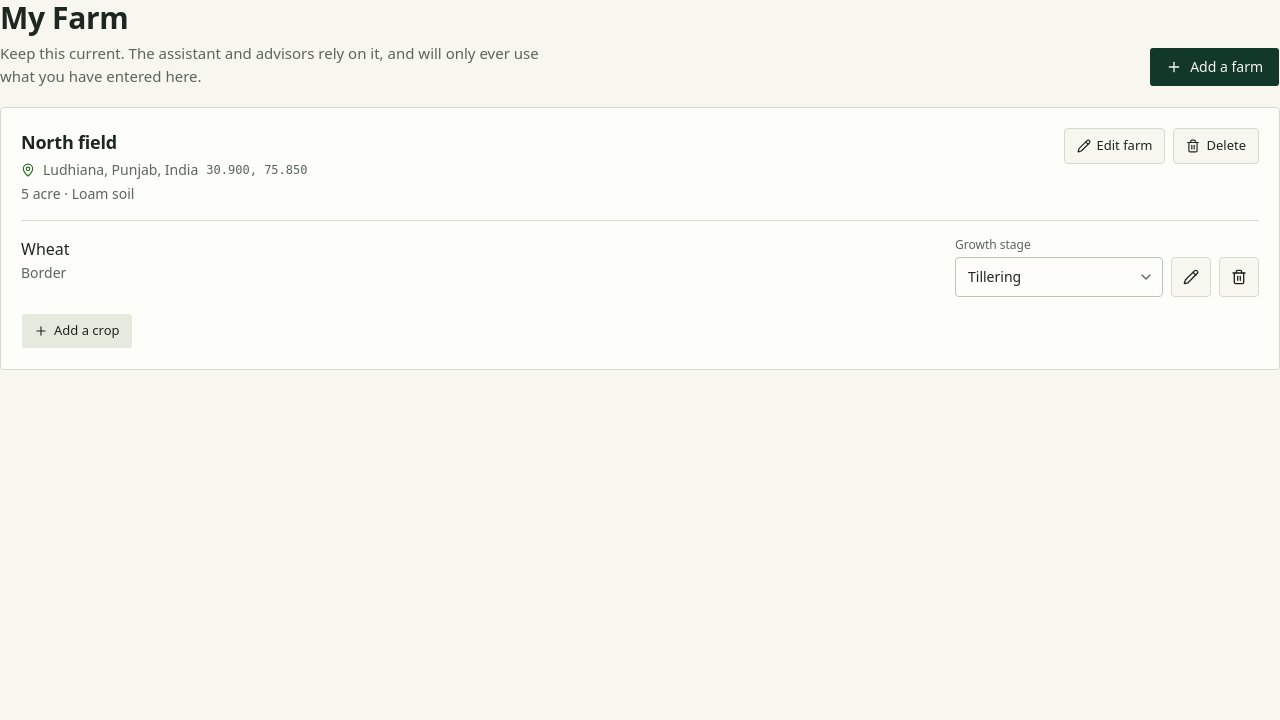
Scenario: FarmPage › asks before deleting a farm, then deletes it
Later steps or results of the test are not shown.
Click the button "Delete" at (1216, 146), box [1174, 128, 1259, 164]
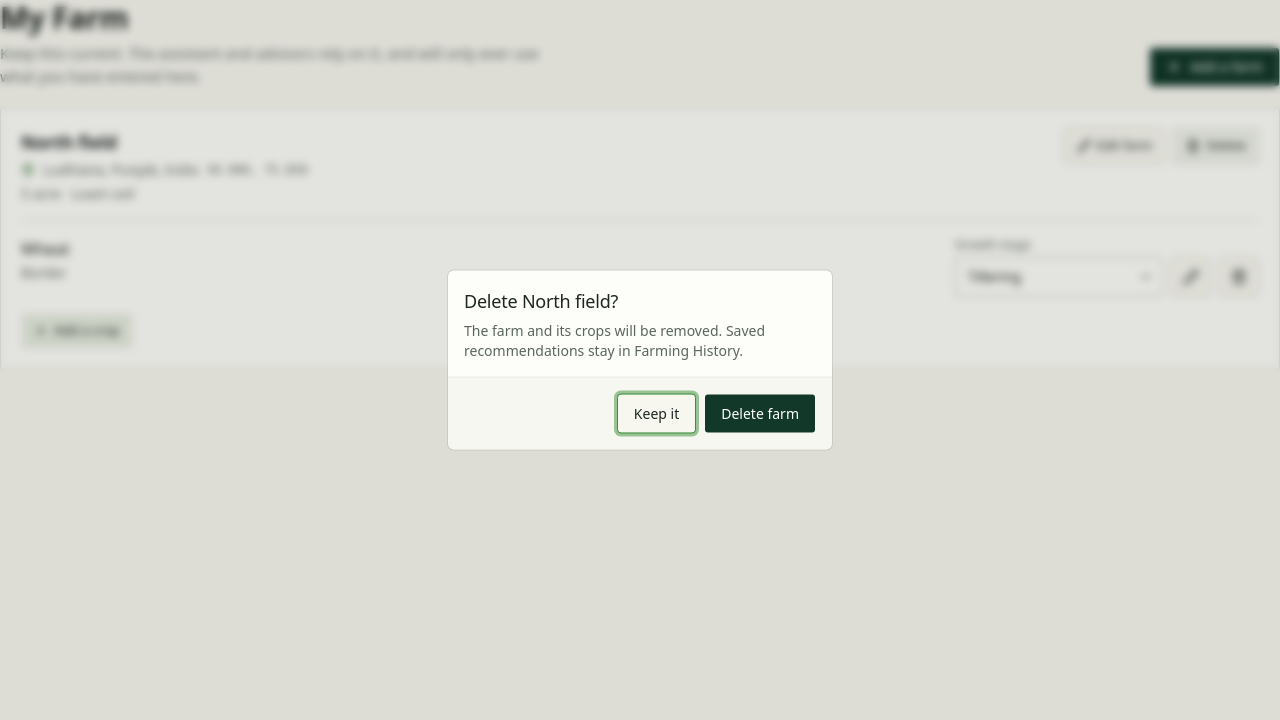
expect the heading "Delete North field?" is shown: met, box [464, 286, 618, 314]
